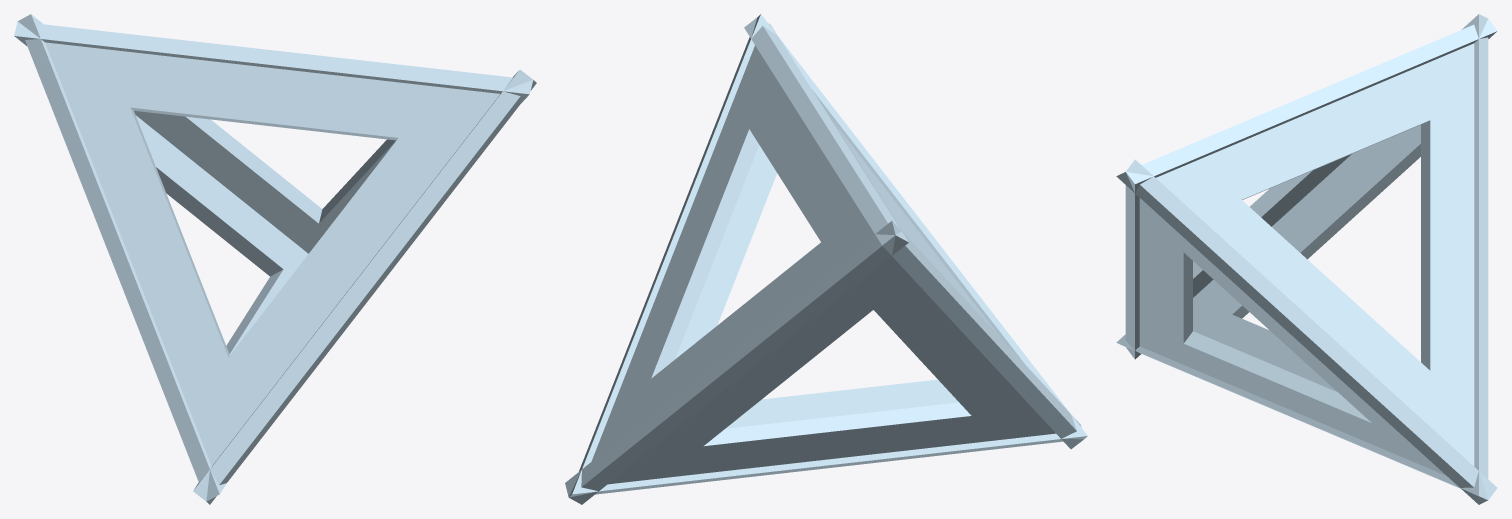
Rendered from tetrahedron-cutout-simple.glb.
3 views of the same model, side by side, from view 1: azimuth 30°, elevation 25°; view 2: azimuth 150°, elevation 25°; view 3: azimuth 270°, elevation 25° (orthographic). The views are drawn at different scales.
Visible parts, largest first — view 1: world; view 2: world; view 3: world.
Boxes of the visible parts, left/top/right/bottom form: world: left=14, top=14, right=536, bottom=504; world: left=565, top=14, right=1087, bottom=504; world: left=1116, top=14, right=1497, bottom=504.
Bounding box in the file's own units: 2.1 × 2.1 × 2.1.
